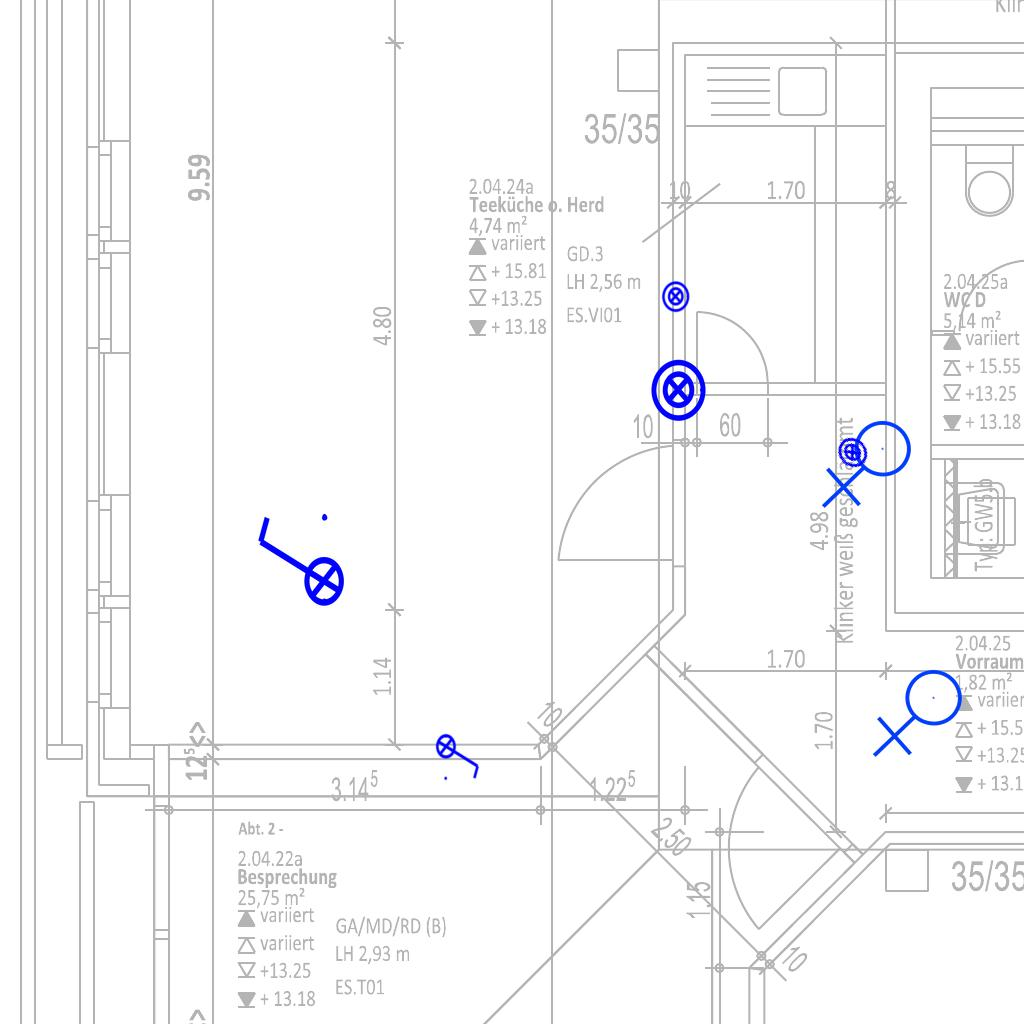Ausschalter_beleuchtet: (250, 508, 346, 620), (435, 727, 483, 783)
Elektroanschluss_allgemein_230V_Geraeteanschlussdose_230V: (872, 668, 971, 762), (821, 419, 920, 513)
Taster_beleuchtet: (645, 357, 711, 423), (829, 429, 876, 476), (659, 280, 692, 313)
